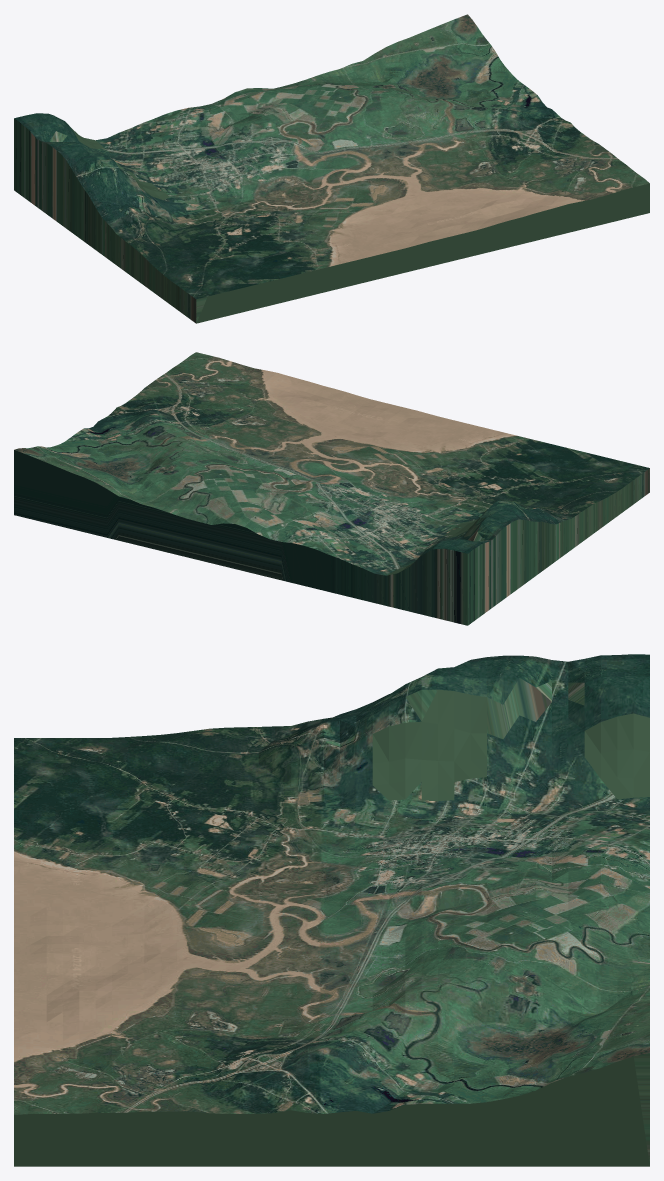
The model's file is sackville.glb.
The picture shows the model from 3 angles, top to bottom: view 1: azimuth 30°, elevation 25°; view 2: azimuth 150°, elevation 25°; view 3: azimuth 270°, elevation 25°; orthographic projection. The views are drawn at different scales.
Parts seen in each view (by area): view 1: map (2); view 2: map (2); view 3: map (2).
Part boxes in pixels (bbox=[...]): map (2): bbox=[14, 14, 649, 323]; map (2): bbox=[14, 352, 649, 625]; map (2): bbox=[14, 654, 649, 1166].
Bounding box in the file's own units: 78 × 11.87 × 54.25.
Materials: 1 (1 with a texture image).
